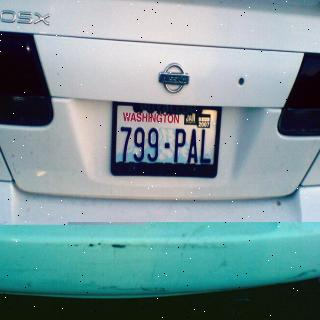license: (118, 101, 220, 178)
